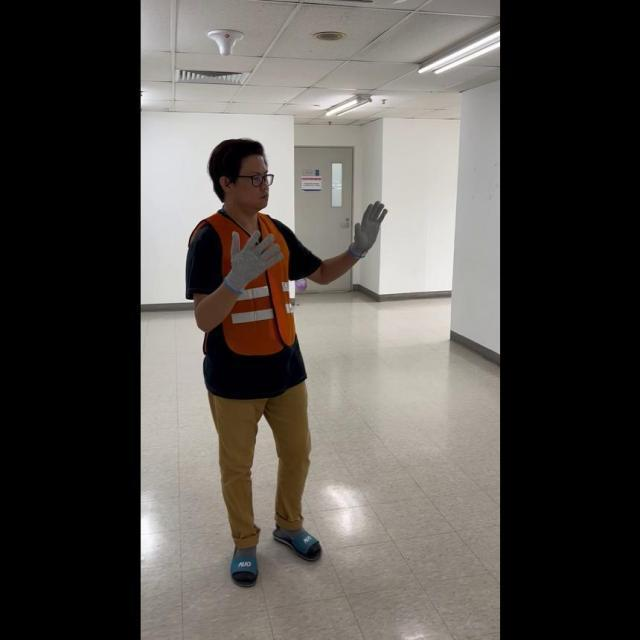gloved_hand: (220, 226, 283, 292), (345, 197, 387, 257)
